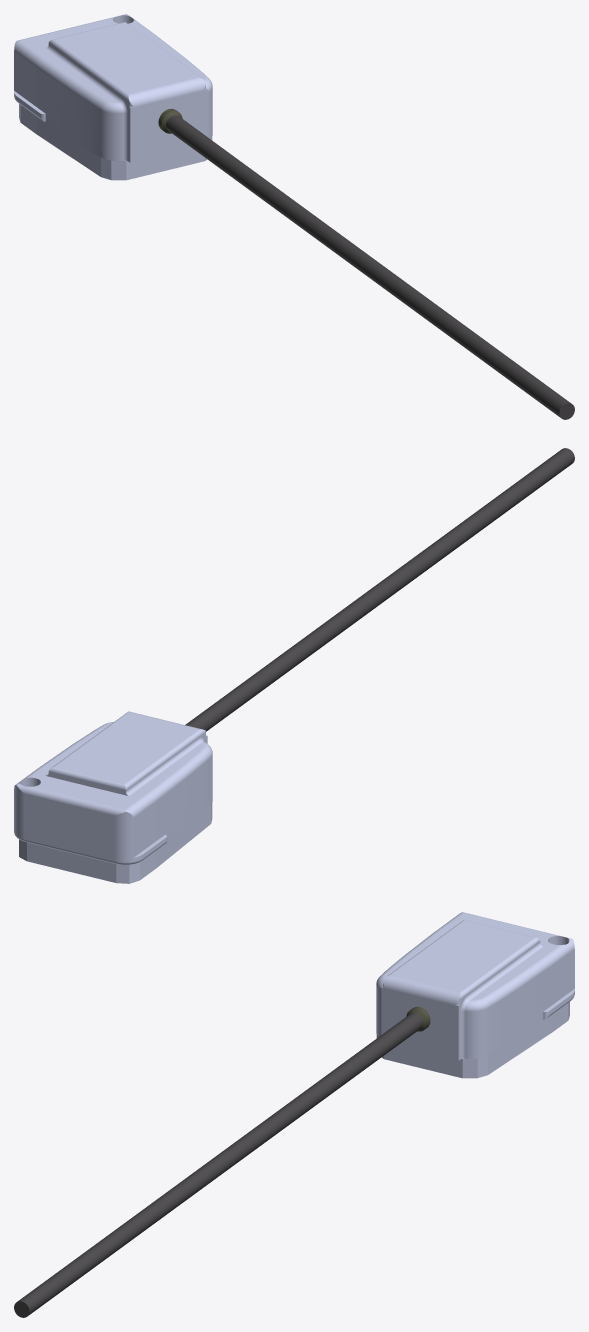
Rendered from tool_main.dae.
The picture shows the model from 3 angles, top to bottom: view 1: azimuth 30°, elevation 25°; view 2: azimuth 150°, elevation 25°; view 3: azimuth 330°, elevation 25°; orthographic projection.
Parts seen in each view (by area): view 1: Actor0; view 2: Actor0; view 3: Actor0.
Part boxes in pixels (box(x1,y1,x2,y2)): Actor0: box(14, 14, 574, 419); Actor0: box(14, 448, 574, 883); Actor0: box(14, 912, 574, 1317).
Bounding box in the file's own units: 0.0682 × 0.0431 × 0.464.
